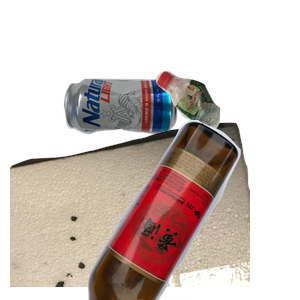glass: (85, 120, 300, 300)
metal: (61, 75, 231, 202)
plastic: (153, 68, 300, 190)
trash: (10, 120, 250, 300)
